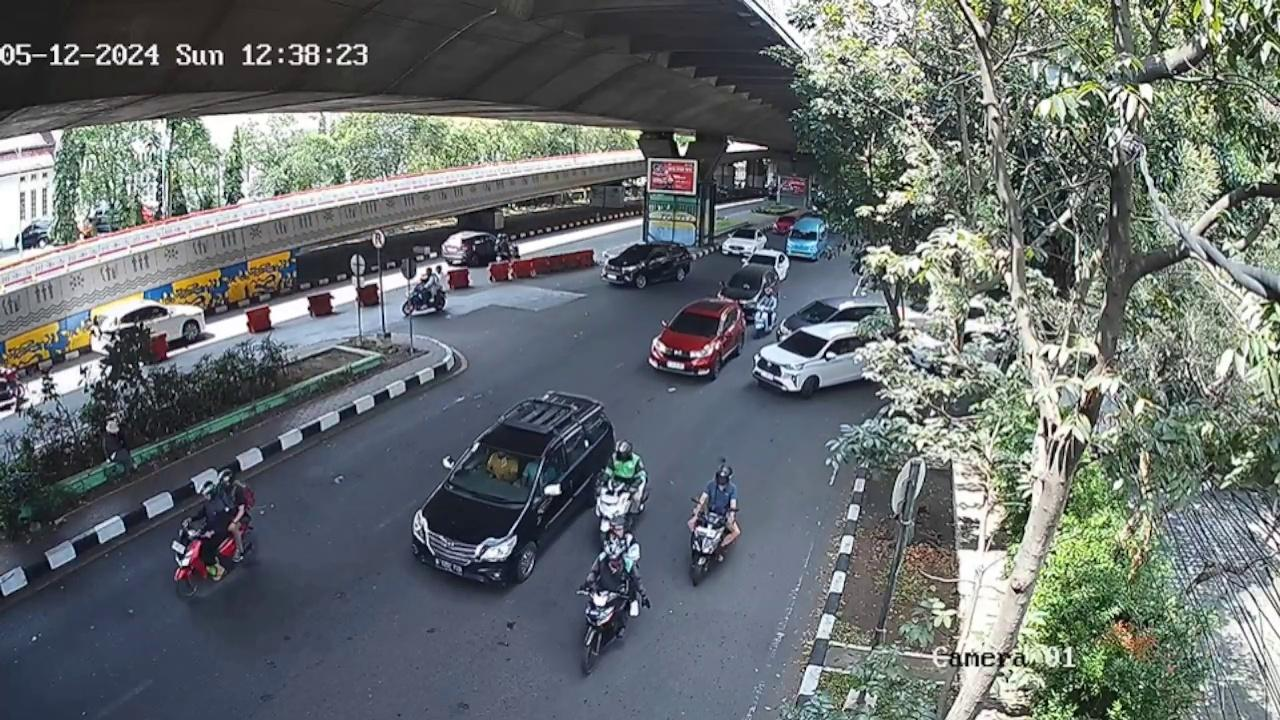tidak-pakai: (488, 446, 519, 484), (522, 455, 542, 489)
windshield: (449, 441, 544, 494), (665, 306, 724, 338)
